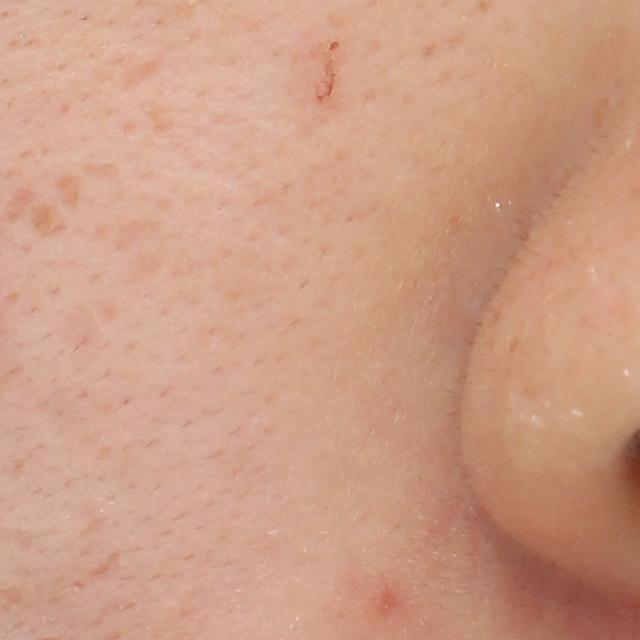atrophic_scar: (2, 182, 41, 223), (125, 53, 168, 87), (86, 547, 121, 584), (56, 170, 85, 213), (30, 198, 59, 240)
other: (314, 37, 340, 103)
